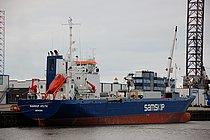Ship: (17, 48, 200, 126)
